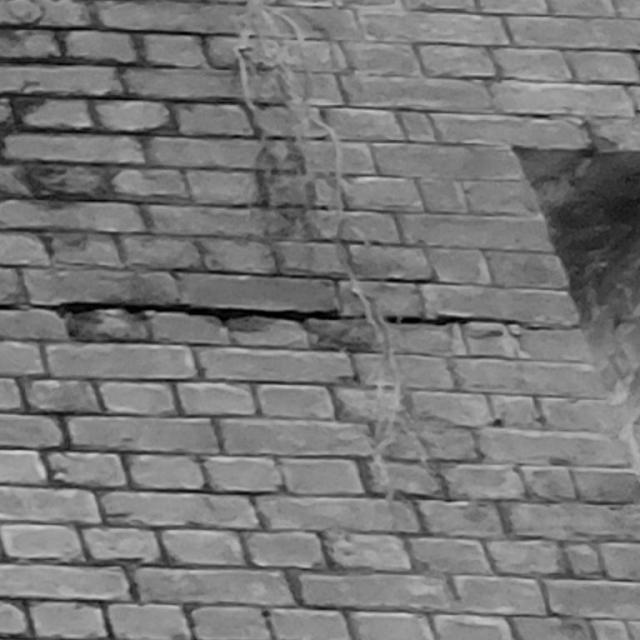crack: (1, 300, 552, 331)
